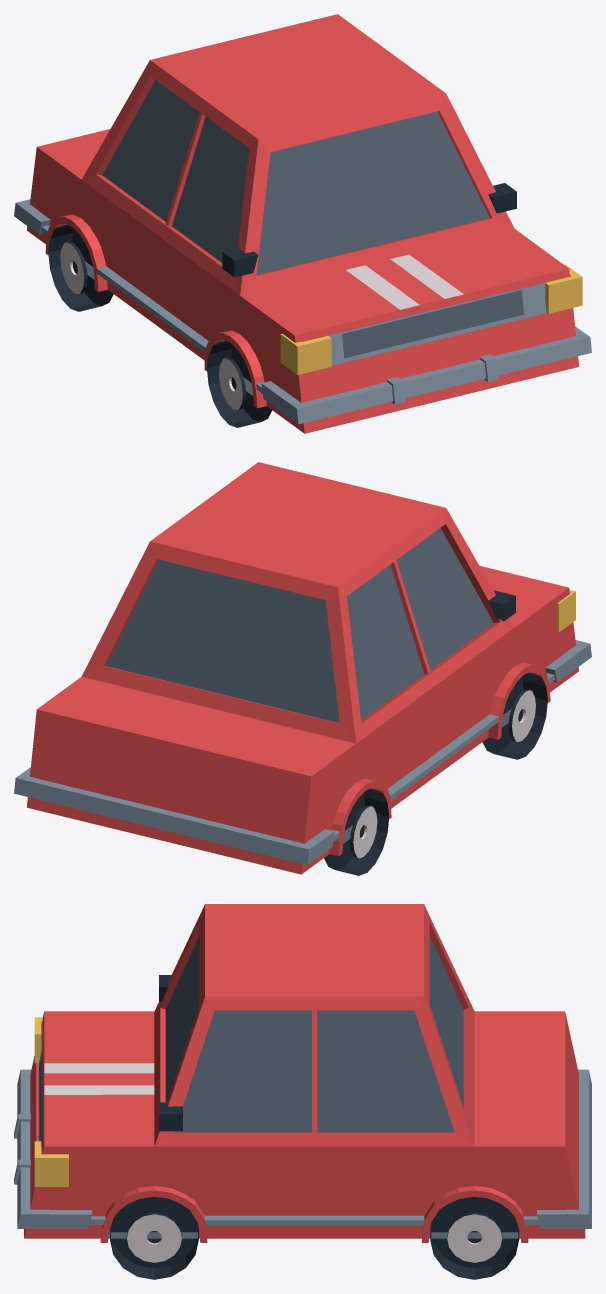
The model's file is car2.fbx.
The picture shows the model from 3 angles, top to bottom: view 1: azimuth 30°, elevation 25°; view 2: azimuth 150°, elevation 25°; view 3: azimuth 270°, elevation 25°; orthographic projection.
Parts seen in each view (by area): view 1: purple.004; view 2: purple.004; view 3: purple.004.
Boxes of the visible parts, x1=… form: purple.004: x1=14, y1=14, x2=591, y2=433; purple.004: x1=14, y1=462, x2=591, y2=875; purple.004: x1=14, y1=904, x2=591, y2=1279.
Size of the model in its own units: 216 by 177 by 361.
